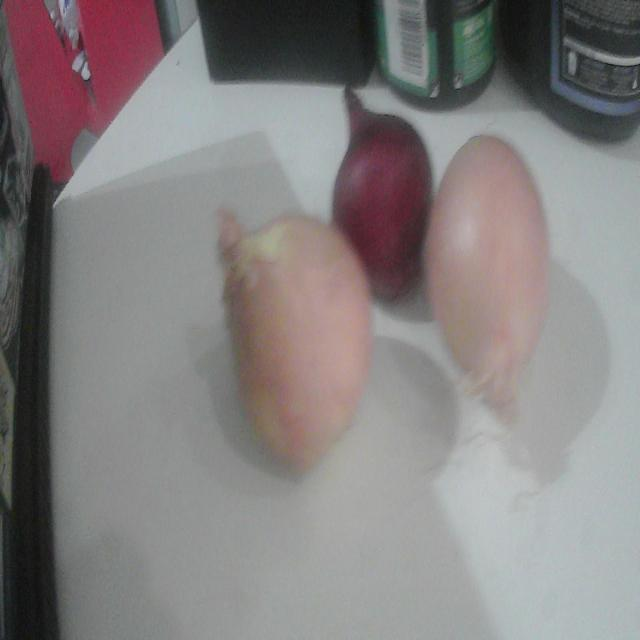Onion: (218, 209, 371, 472), (422, 136, 552, 427), (332, 87, 432, 301)
